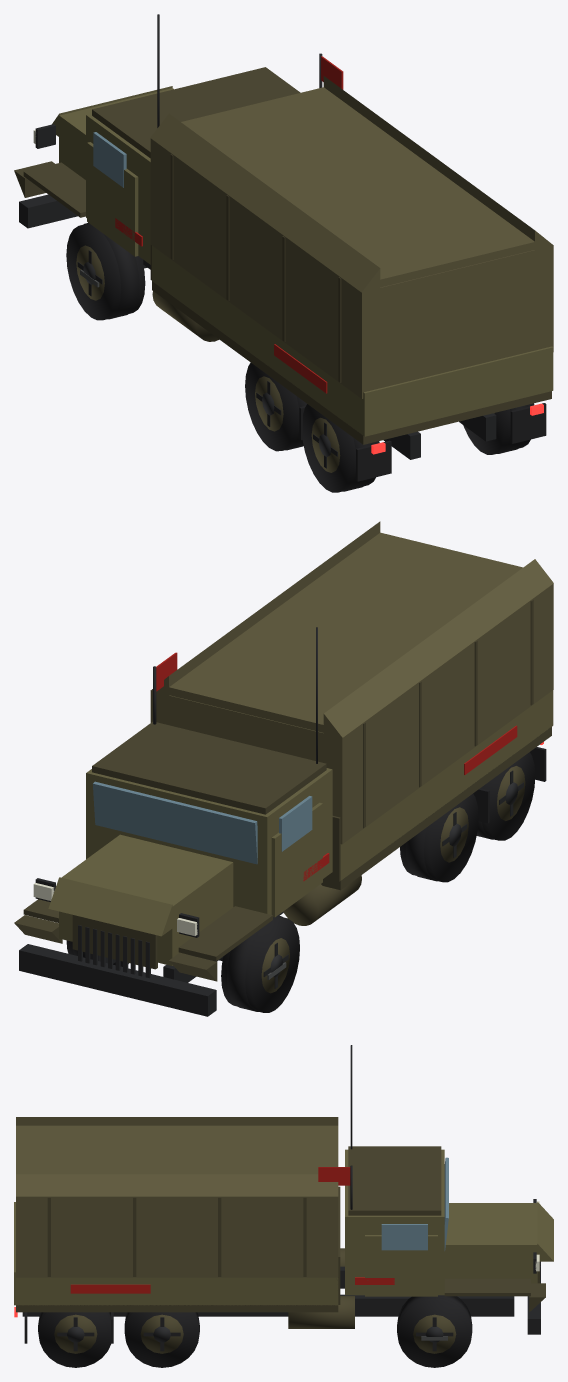
Rendered from Truck_Red.fbx.
3 views of the same model, one above another, from view 1: azimuth 30°, elevation 25°; view 2: azimuth 150°, elevation 25°; view 3: azimuth 270°, elevation 25° (orthographic). The views are drawn at different scales.
Visible parts, largest first — view 1: Canvas, CanvasRoof, Tailgate, CanvasEaveL, BedSideL, CabRoof, BedFloor, DoorL1Panel, TyreL1, CanvasEaveR, Cab, TyreL3 (+16 smaller); view 2: CanvasRoof, Canvas, CabRoof, Bonnet, CanvasEaveL, Cab, Windshield, BedSideL, Bumper, BonnetFront, DoorL1Panel, TyreL1 (+17 smaller); view 3: Canvas, CanvasRoof, BedSideR, CanvasEaveR, Bonnet, CabRoof, DoorR1Panel, Cab, TyreR1, CanvasEaveL, FrameRailR, BedFloor (+14 smaller).
Part boxes in pixels (box(x1,y1,x2,y2)): Canvas: box(150, 138, 553, 398); CanvasRoof: box(181, 87, 534, 287); Tailgate: box(363, 346, 553, 436); CanvasEaveL: box(150, 113, 380, 292); BedSideL: box(152, 245, 363, 435); CabRoof: box(92, 67, 300, 158); BedFloor: box(152, 281, 551, 444); DoorL1Panel: box(87, 142, 138, 256); TyreL1: box(66, 224, 145, 320); CanvasEaveR: box(323, 76, 553, 249); Cab: box(86, 113, 150, 264); TyreL3: box(302, 404, 379, 492); CanvasRoof: box(169, 532, 522, 732); Canvas: box(150, 584, 553, 844); CabRoof: box(92, 721, 326, 814); Bonnet: box(59, 834, 233, 965); CanvasEaveL: box(323, 559, 553, 737); Cab: box(86, 768, 332, 914); Windshield: box(92, 781, 257, 864); BedSideL: box(340, 691, 551, 880); Bumper: box(19, 944, 216, 1016); BonnetFront: box(48, 877, 172, 936); DoorL1Panel: box(271, 802, 322, 917); TyreL1: box(221, 917, 299, 1012); Canvas: box(16, 1196, 338, 1277); CanvasRoof: box(16, 1125, 338, 1174); BedSideR: box(16, 1277, 338, 1305); CanvasEaveR: box(16, 1174, 338, 1196); Bonnet: box(444, 1203, 537, 1283); CabRoof: box(348, 1146, 441, 1215); DoorR1Panel: box(365, 1235, 437, 1296); Cab: box(345, 1149, 444, 1295); TyreR1: box(397, 1296, 471, 1367); CanvasEaveL: box(16, 1117, 338, 1125); FrameRailR: box(22, 1294, 514, 1316); BedFloor: box(16, 1305, 338, 1312).
Bounding box in the file's own units: 256 × 813 × 430.
